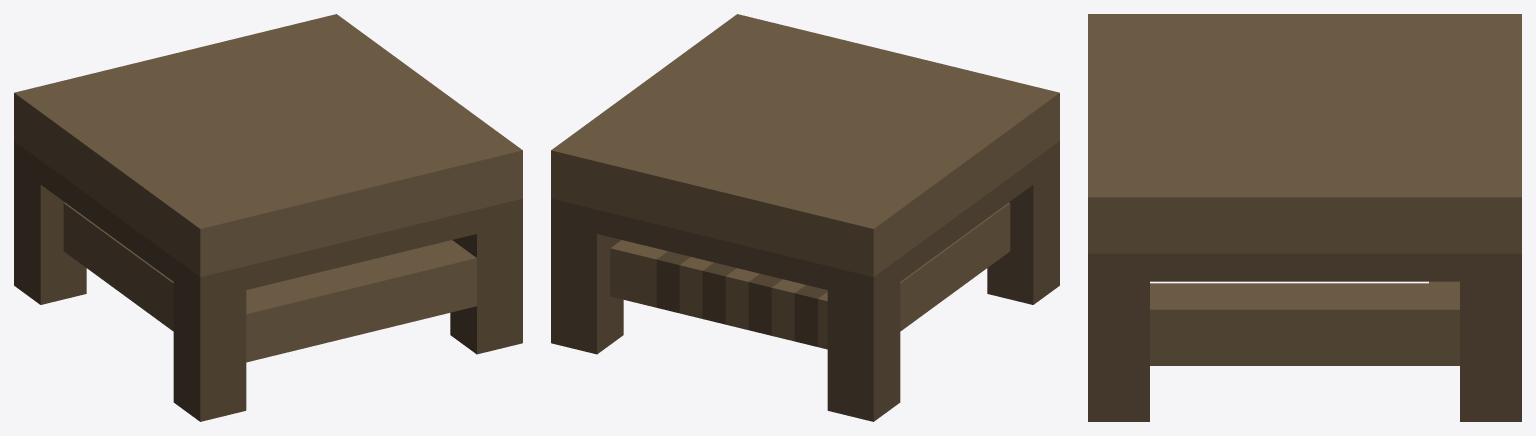
Rendered from taburete_nogal_tallado_01.glb.
3 views of the same model, side by side, from view 1: azimuth 30°, elevation 25°; view 2: azimuth 150°, elevation 25°; view 3: azimuth 270°, elevation 25° (orthographic). The views are drawn at different scales.
Visible parts, largest first — view 1: taburete_nogal_tallado; view 2: taburete_nogal_tallado; view 3: taburete_nogal_tallado.
Boxes of the visible parts, bbox=[...] form: taburete_nogal_tallado: bbox=[14, 14, 522, 421]; taburete_nogal_tallado: bbox=[551, 14, 1059, 421]; taburete_nogal_tallado: bbox=[1088, 14, 1521, 421].
Bounding box in the file's own units: 1 × 0.5714 × 1.
